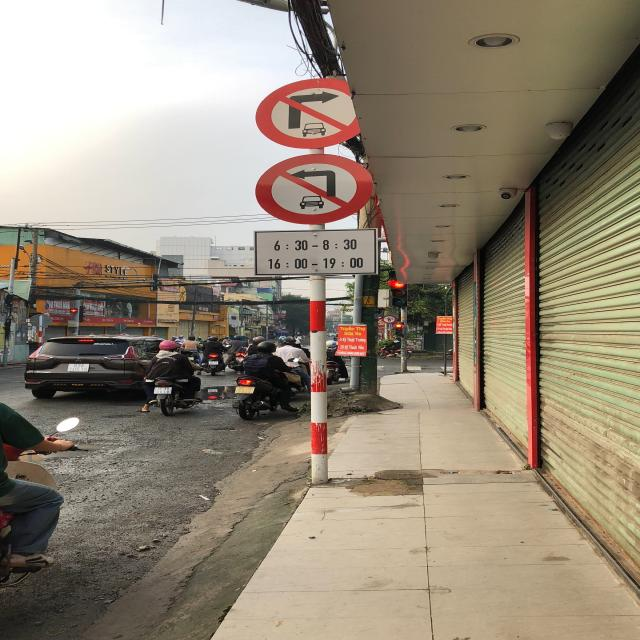Bien bao cam xe o to re phai: (256, 71, 371, 151)
Bien bao cam xe o to re trai: (251, 152, 379, 228)
